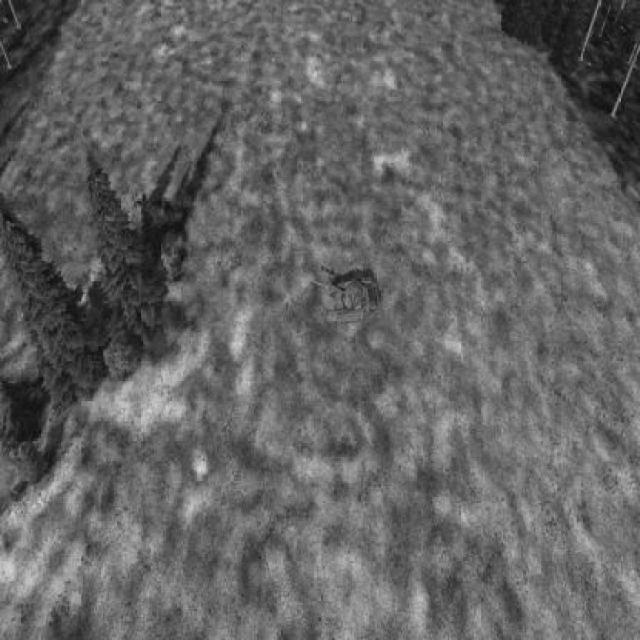Tank: (313, 275, 382, 329)
